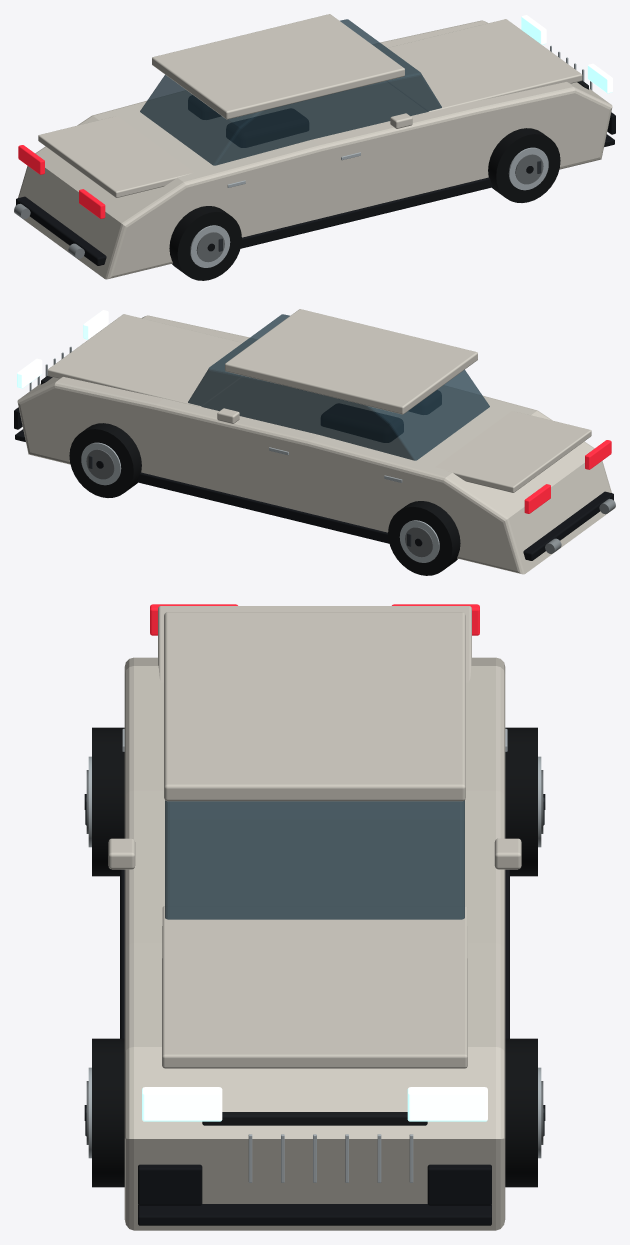
Rendered from rr_ghost_ewb.glb.
The picture shows the model from 3 angles, top to bottom: view 1: azimuth 30°, elevation 25°; view 2: azimuth 150°, elevation 25°; view 3: azimuth 270°, elevation 25°; orthographic projection. The views are drawn at different scales.
Parts seen in each view (by area): view 1: sculpted_body, roof, glasshouse, hood_center, rear_deck, rear_right_wheel_tire, front_right_wheel_tire, side_skirt_1, seat_1, rear_diffuser, front_right_wheel_rim, rear_right_wheel_rim (+7 smaller); view 2: sculpted_body, roof, glasshouse, hood_center, rear_deck, rear_left_wheel_tire, front_left_wheel_tire, side_skirt_-1, seat_-1, rear_diffuser, front_left_wheel_rim, rear_left_wheel_rim (+7 smaller); view 3: sculpted_body, roof, hood_center, glasshouse, front_splitter, front_left_wheel_tire, front_right_wheel_tire, rear_left_wheel_tire, rear_right_wheel_tire, headlight_left, headlight_right, front_grille (+7 smaller).
Part boxes in pixels (x1=…): sculpted_body: x1=14, y1=20, x2=612, y2=279; roof: x1=152, y1=14, x2=404, y2=119; glasshouse: x1=140, y1=19, x2=441, y2=165; hood_center: x1=380, y1=19, x2=582, y2=111; rear_deck: x1=38, y1=116, x2=194, y2=197; rear_right_wheel_tire: x1=169, y1=206, x2=241, y2=280; front_right_wheel_tire: x1=488, y1=128, x2=560, y2=202; side_skirt_1: x1=240, y1=177, x2=493, y2=248; seat_1: x1=226, y1=109, x2=308, y2=147; rear_diffuser: x1=16, y1=196, x2=106, y2=265; front_right_wheel_rim: x1=508, y1=147, x2=548, y2=190; rear_right_wheel_rim: x1=190, y1=225, x2=230, y2=267; sculpted_body: x1=17, y1=315, x2=615, y2=574; roof: x1=225, y1=309, x2=477, y2=414; glasshouse: x1=188, y1=314, x2=489, y2=460; hood_center: x1=47, y1=314, x2=249, y2=406; rear_deck: x1=435, y1=411, x2=591, y2=492; rear_left_wheel_tire: x1=388, y1=501, x2=460, y2=575; front_left_wheel_tire: x1=69, y1=423, x2=141, y2=497; side_skirt_-1: x1=136, y1=472, x2=389, y2=543; seat_-1: x1=321, y1=404, x2=403, y2=442; rear_diffuser: x1=523, y1=491, x2=613, y2=560; front_left_wheel_rim: x1=81, y1=442, x2=121, y2=485; rear_left_wheel_rim: x1=399, y1=520, x2=439, y2=562; sculpted_body: x1=124, y1=657, x2=505, y2=1230; roof: x1=164, y1=612, x2=465, y2=801; hood_center: x1=162, y1=906, x2=467, y2=1068; glasshouse: x1=165, y1=800, x2=464, y2=919; front_splitter: x1=138, y1=1204, x2=491, y2=1225; front_left_wheel_tire: x1=505, y1=1038, x2=537, y2=1187; front_right_wheel_tire: x1=92, y1=1038, x2=124, y2=1187; rear_left_wheel_tire: x1=505, y1=727, x2=537, y2=876; rear_right_wheel_tire: x1=92, y1=727, x2=124, y2=876; headlight_left: x1=407, y1=1087, x2=487, y2=1121; headlight_right: x1=142, y1=1087, x2=222, y2=1121; front_grille: x1=202, y1=1112, x2=427, y2=1125.
Size of the model in its own units: 5.95 by 1.56 by 2.23.
